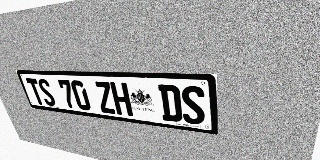0: (69, 80, 92, 111)
7: (56, 80, 78, 109)
D: (158, 84, 183, 123)
H: (110, 82, 133, 116)
S: (180, 85, 205, 126), (36, 79, 57, 107)
T: (25, 78, 46, 105)
Z: (93, 81, 117, 114)
